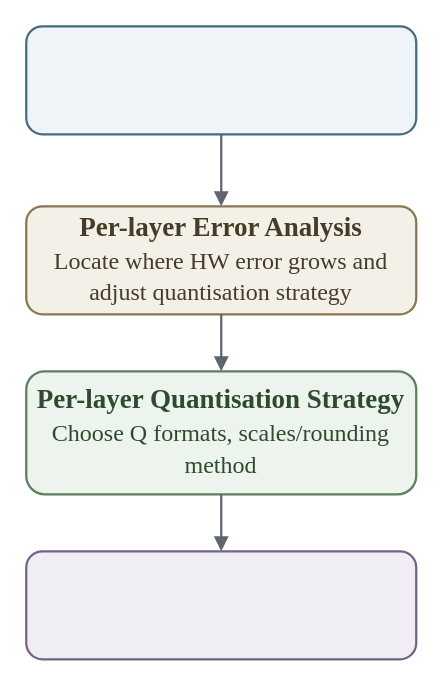
Some shapes in this 444 by 687 pixel diagram are drawn without their labels. The box of each missing label's shape, as (x1, y1, x2, y2) in pixels:
Precision Sweep Find quantisation-sensitive layers: (24, 24, 417, 135)
RTL Mapping Implement quantisation module: (24, 549, 417, 660)
